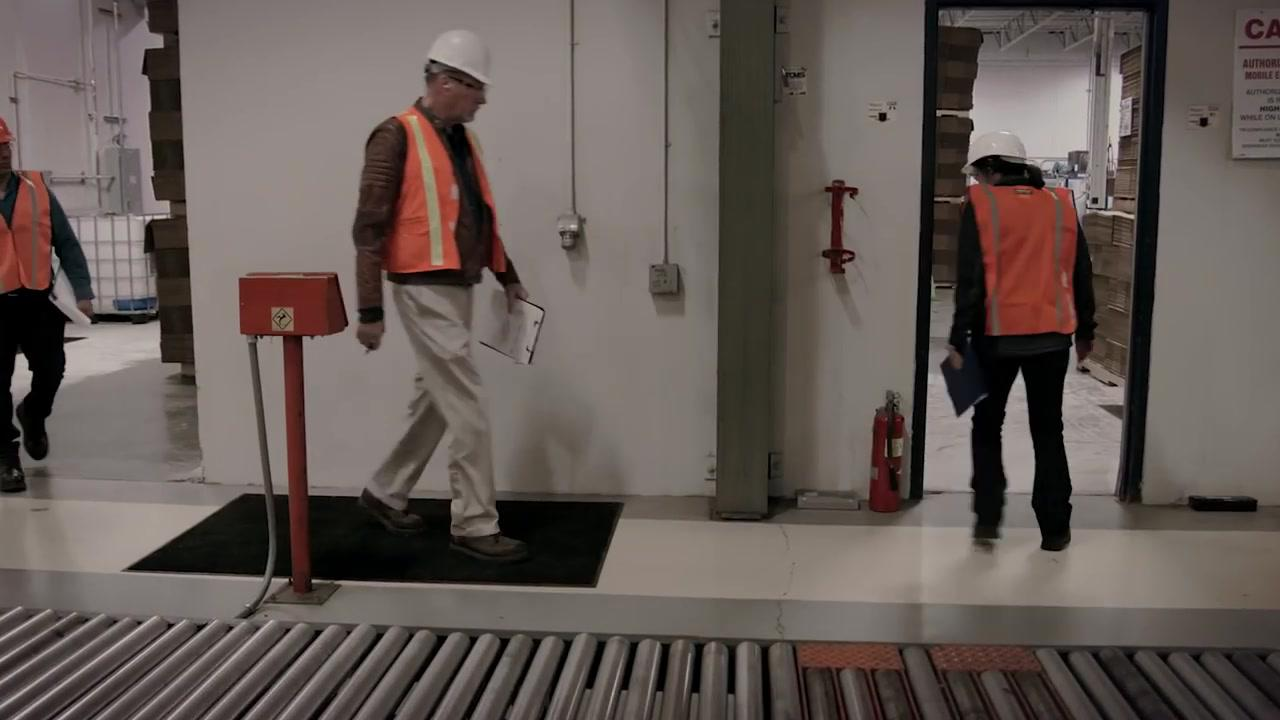Hi-Vis Jacket: (364, 114, 497, 291), (966, 185, 1091, 348), (1, 174, 62, 302)
